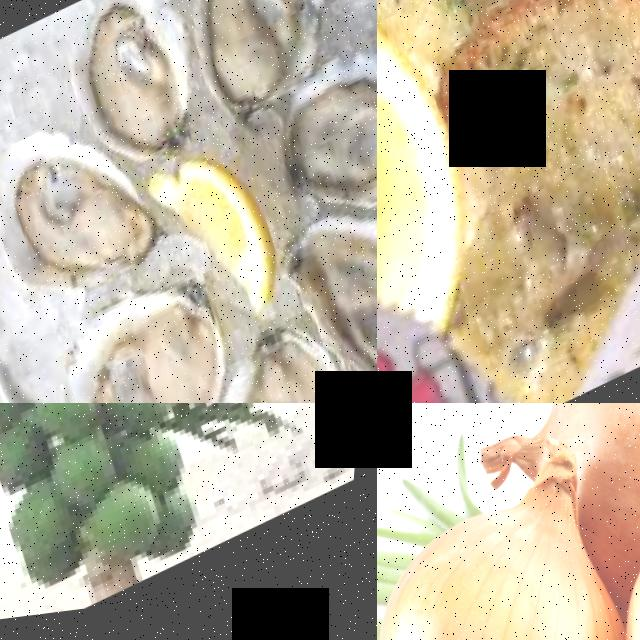lemon: (377, 0, 521, 357), (157, 137, 304, 342)
onion: (377, 472, 640, 640), (523, 403, 640, 577)
oysters: (0, 99, 167, 328), (44, 0, 225, 186), (30, 265, 269, 403), (164, 0, 355, 137), (260, 32, 377, 251), (273, 179, 377, 403), (198, 314, 377, 403)
